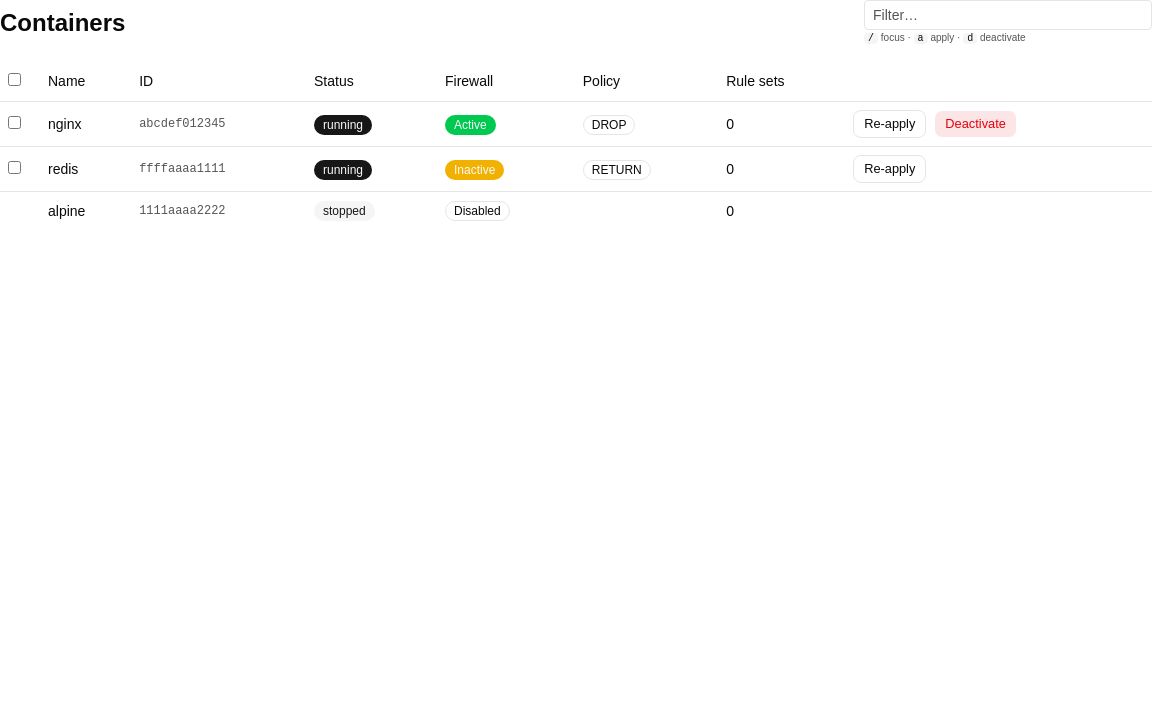
Scenario: ContainersPage deactivate confirm flow › shows a confirmation dialog before running the mutation
Check: the text "nginx" is shown, box [40, 102, 131, 146]
Click the button with aria-label "Deactivate firewall for nginx" at x=976, y=124, box [934, 110, 1017, 138]
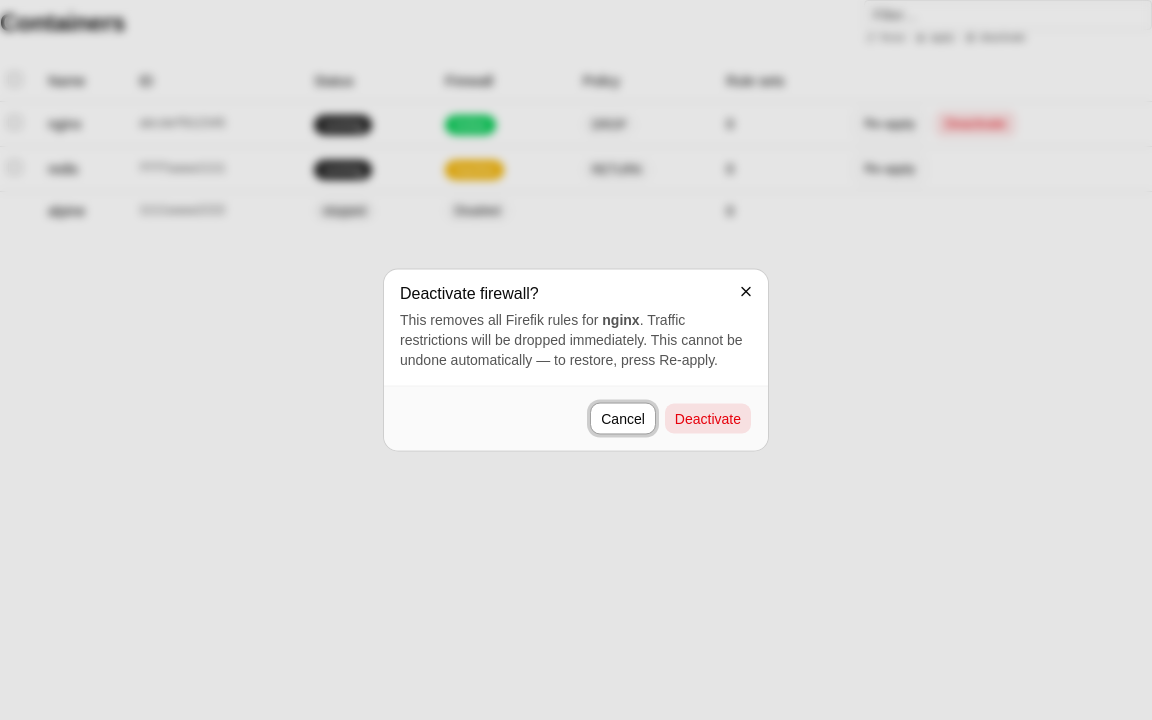
Check: the heading "Deactivate firewall?" is shown, box [400, 284, 539, 302]
